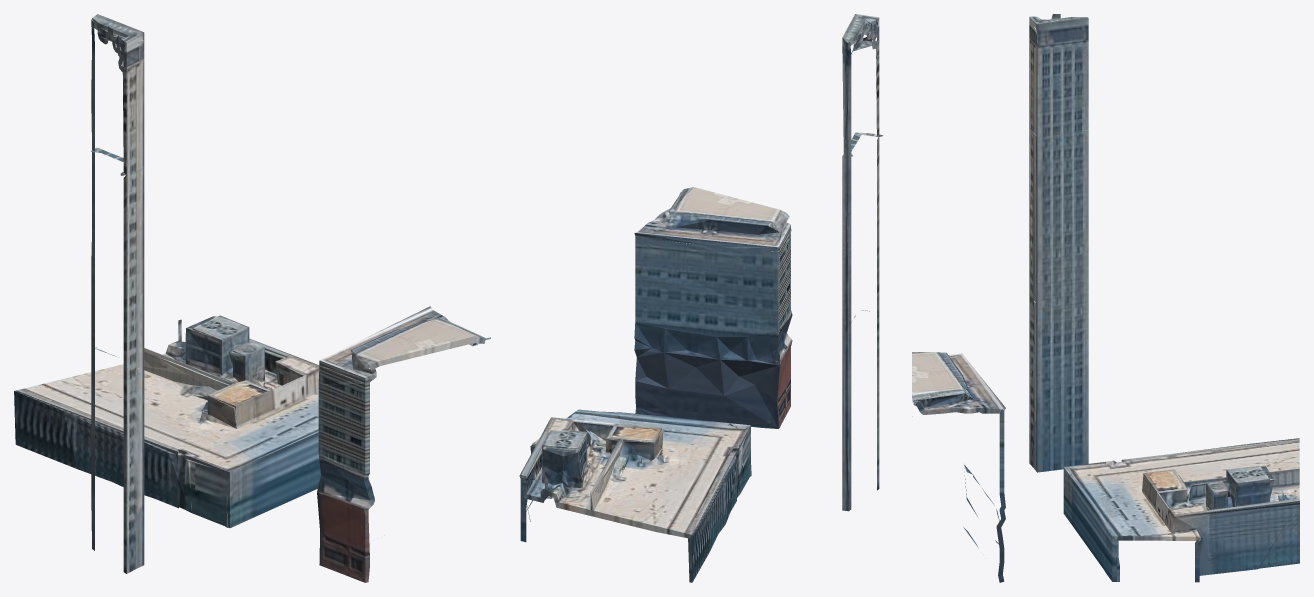
The model's file is chunk_2_4.glb.
3 renders of one model, left to right at view 1: azimuth 30°, elevation 25°; view 2: azimuth 150°, elevation 25°; view 3: azimuth 270°, elevation 25°, orthographic. The views are drawn at different scales.
Parts seen in each view (by area): view 1: hero-chunk; view 2: hero-chunk; view 3: hero-chunk.
Part boxes in pixels (bbox=[...]): hero-chunk: bbox=[14, 14, 490, 582]; hero-chunk: bbox=[519, 14, 883, 582]; hero-chunk: bbox=[912, 14, 1299, 582].
Size of the model in its own units: 57.27 by 97.76 by 76.32.
3 materials, 3 textured.
